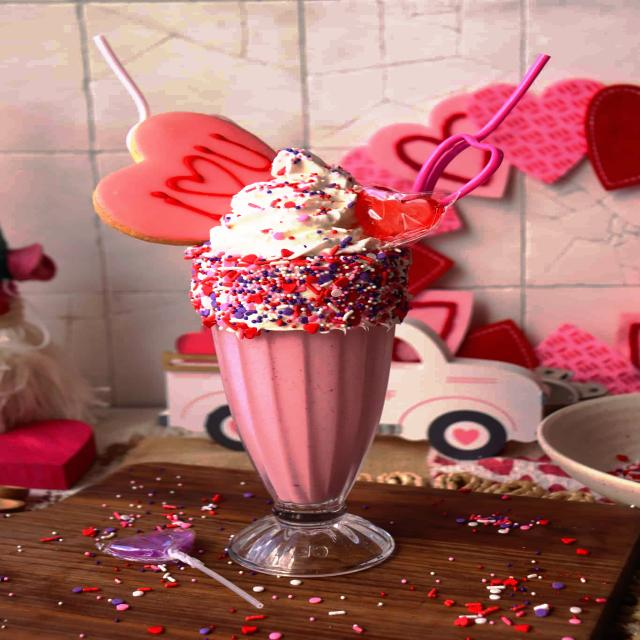drink: (184, 148, 408, 573)
